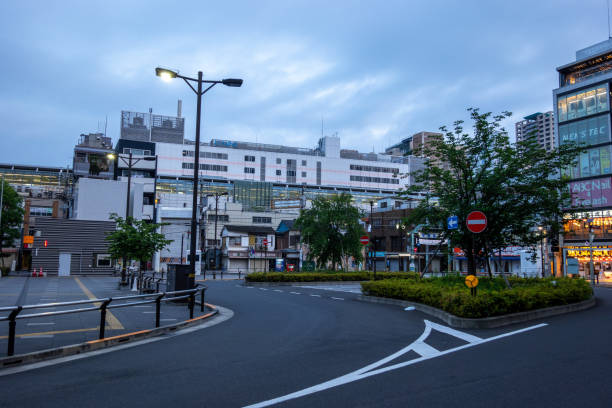Girilmez: (464, 209, 487, 234)
